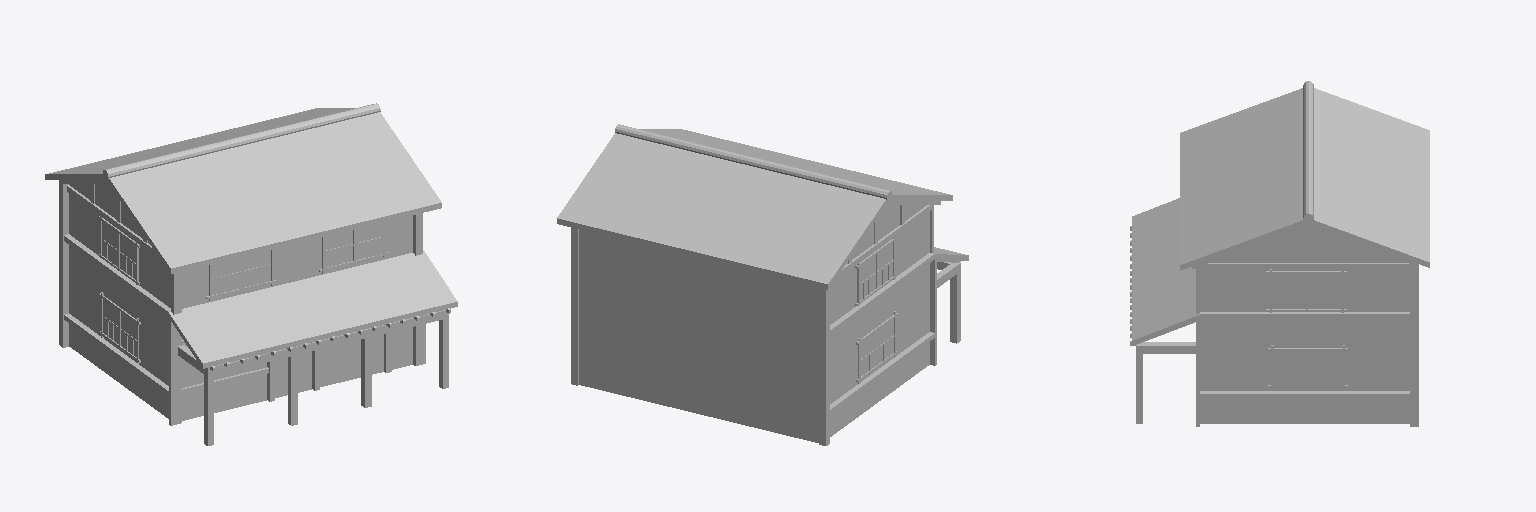
File: Japanese_country_house_4_obj.obj
3 views of the same model, side by side, from view 1: azimuth 30°, elevation 25°; view 2: azimuth 150°, elevation 25°; view 3: azimuth 270°, elevation 25° (orthographic).
Parts seen in each view (by area): view 1: Cube.002_Cube.003; view 2: Cube.002_Cube.003; view 3: Cube.002_Cube.003.
Part boxes in pixels (left/top/right/bottom): Cube.002_Cube.003: left=45, top=103, right=457, bottom=445; Cube.002_Cube.003: left=557, top=124, right=968, bottom=445; Cube.002_Cube.003: left=1130, top=81, right=1429, bottom=426.
Bounding box in the file's own units: 4.34 × 3.31 × 4.15.